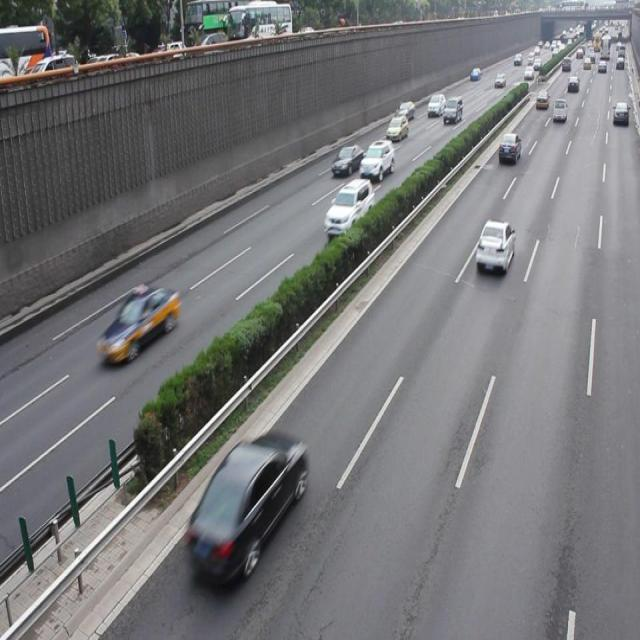car: (186, 430, 306, 584), (97, 283, 180, 364), (324, 177, 373, 234), (474, 219, 513, 273), (358, 138, 393, 182), (330, 142, 363, 177)
